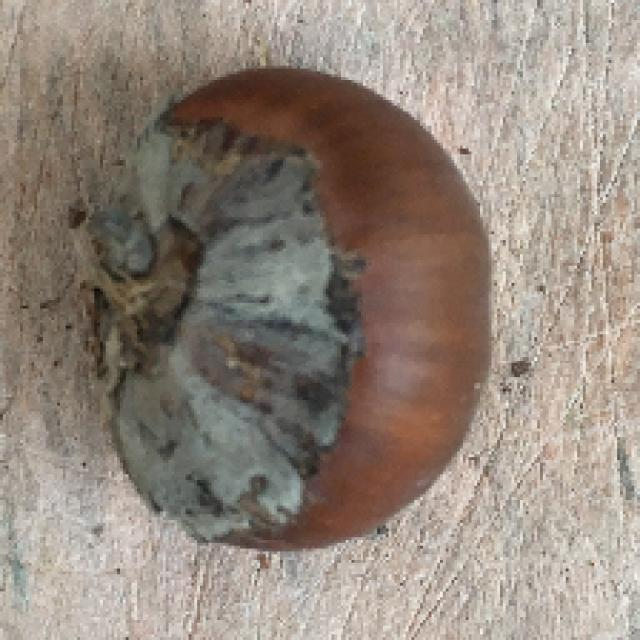damagedHazelnut: (74, 64, 492, 552)
